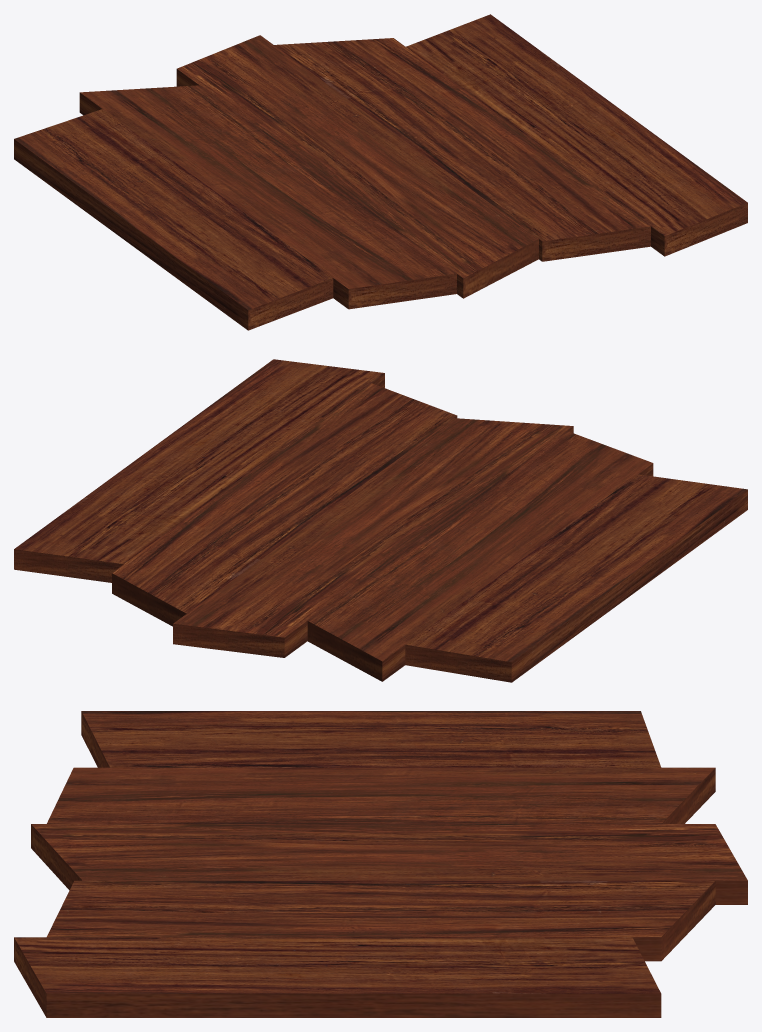
File: PlankLarge.fbx
3 renders of one model, top to bottom at view 1: azimuth 30°, elevation 25°; view 2: azimuth 150°, elevation 25°; view 3: azimuth 270°, elevation 25°, orthographic. The views are drawn at different scales.
Visible parts, largest first — view 1: Cube.003; view 2: Cube.003; view 3: Cube.003.
Boxes of the visible parts, x1,y1,x2,y2 form: Cube.003: (14,14,747,330); Cube.003: (14,359,747,682); Cube.003: (14,711,747,1017).
Bounding box in the file's own units: 1000 × 40 × 1097.
